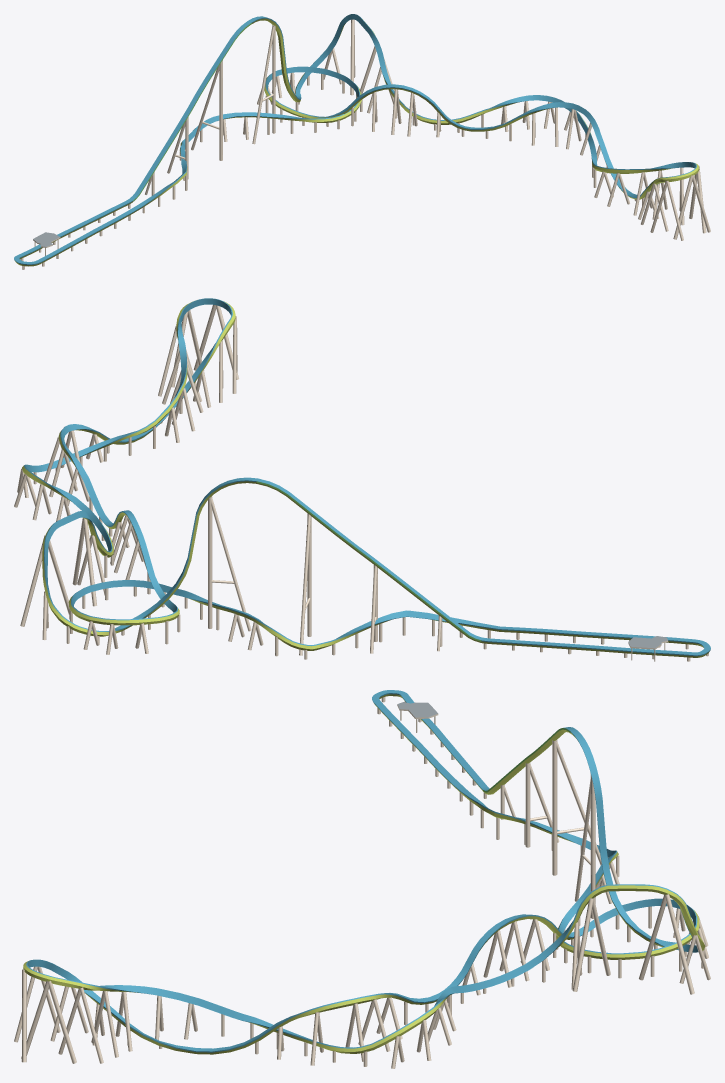
The model's file is carowinds-fury-325.glb.
3 renders of one model, top to bottom at view 1: azimuth 30°, elevation 25°; view 2: azimuth 150°, elevation 25°; view 3: azimuth 270°, elevation 25°, orthographic. The views are drawn at different scales.
Parts seen in each view (by area): view 1: Fury 325; view 2: Fury 325; view 3: Fury 325.
Boxes of the visible parts, <box> form: Fury 325: <box>14,14,710,269</box>; Fury 325: <box>14,298,710,661</box>; Fury 325: <box>14,690,710,1068</box>.
Size of the model in its own units: 476 by 102 by 379.
